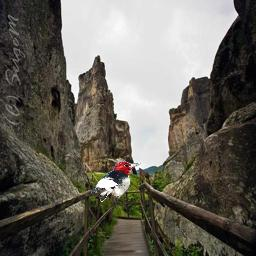Woodpecker: (91, 161, 142, 203)
